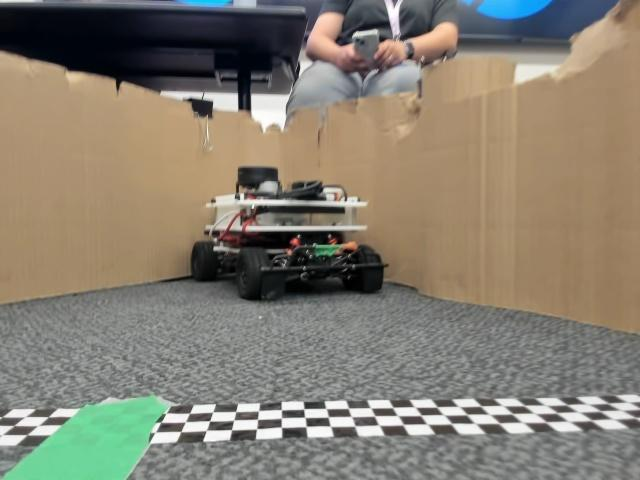Car: (188, 166, 389, 294)
